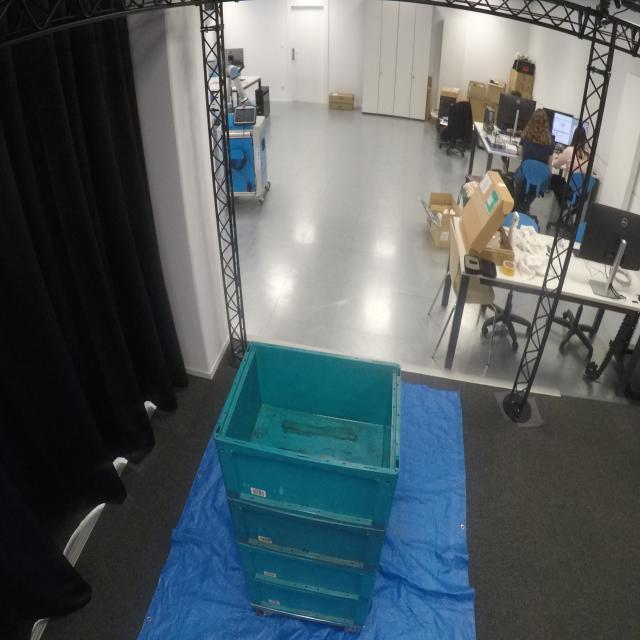BoxB4: (212, 334, 402, 530), (225, 496, 385, 569), (235, 536, 377, 603), (241, 572, 372, 633)
